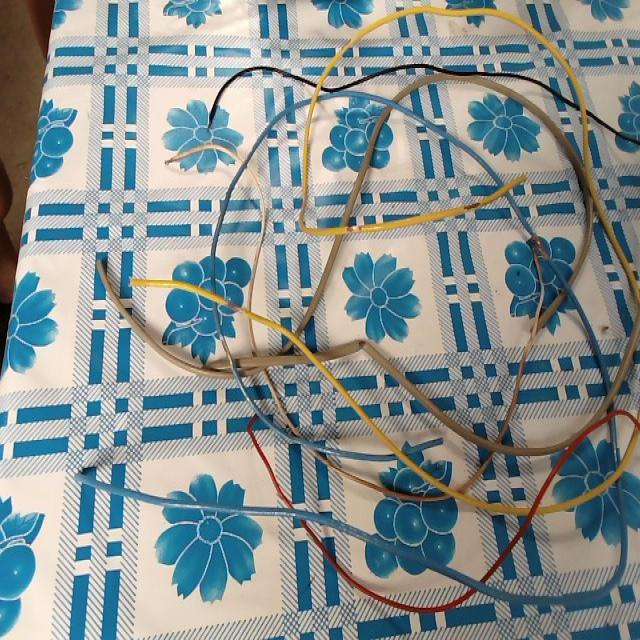-: (215, 328, 240, 364), (529, 229, 549, 260), (341, 220, 364, 236), (459, 196, 483, 211), (355, 332, 373, 352)
